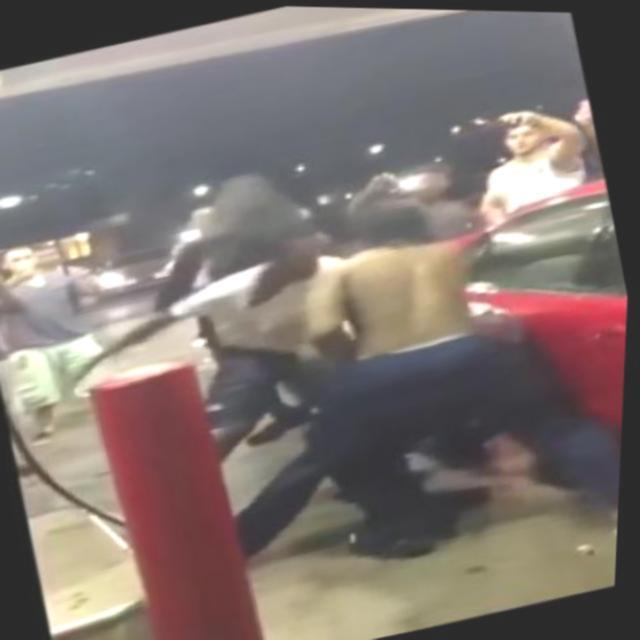fight: (95, 170, 575, 566)
